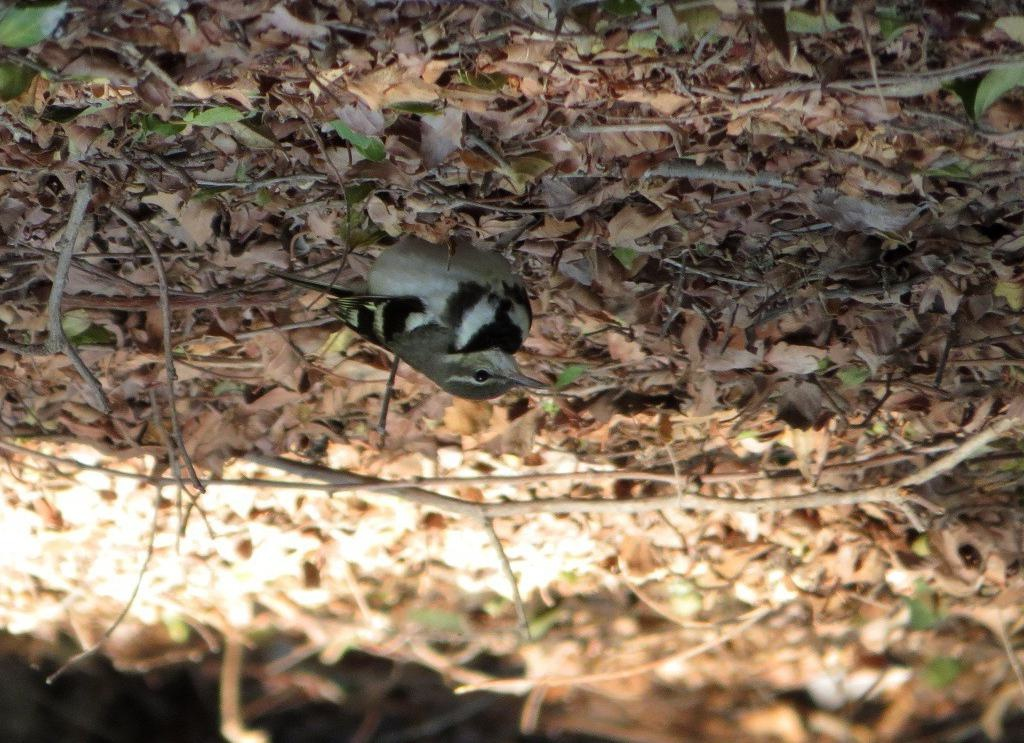wagtail: (362, 196, 566, 409)
